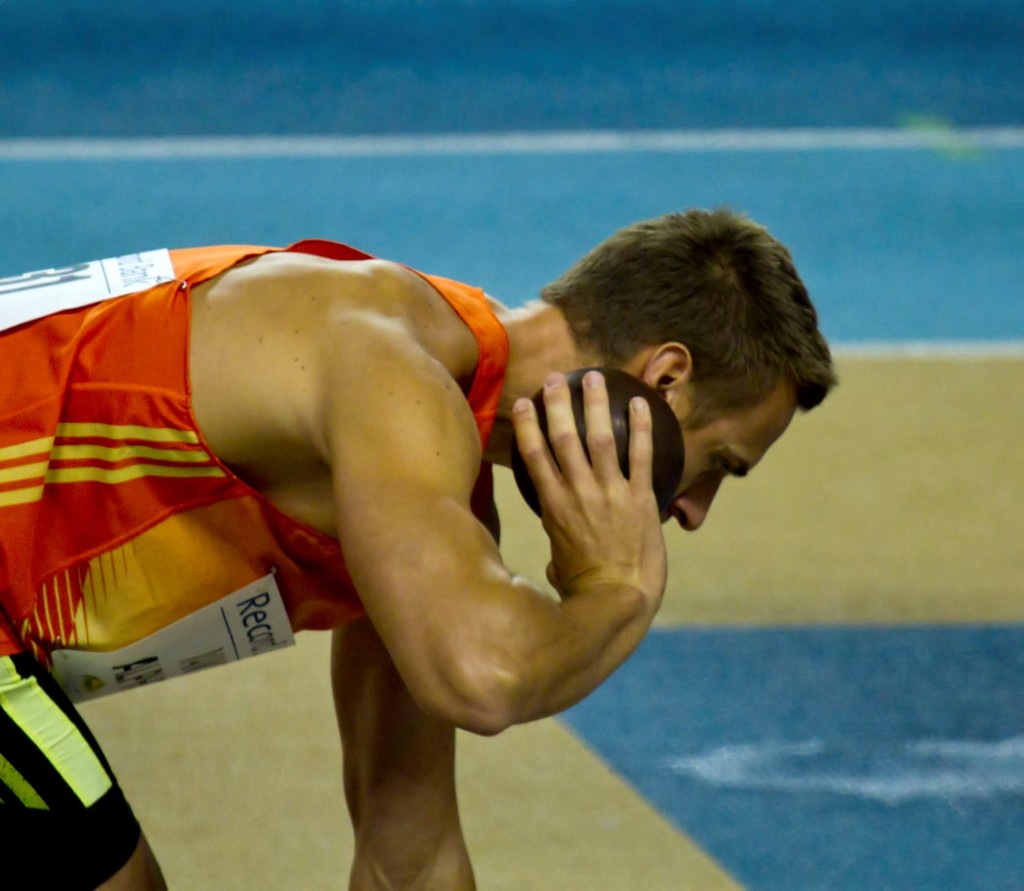face: (645, 351, 818, 536)
person: (11, 206, 843, 879)
